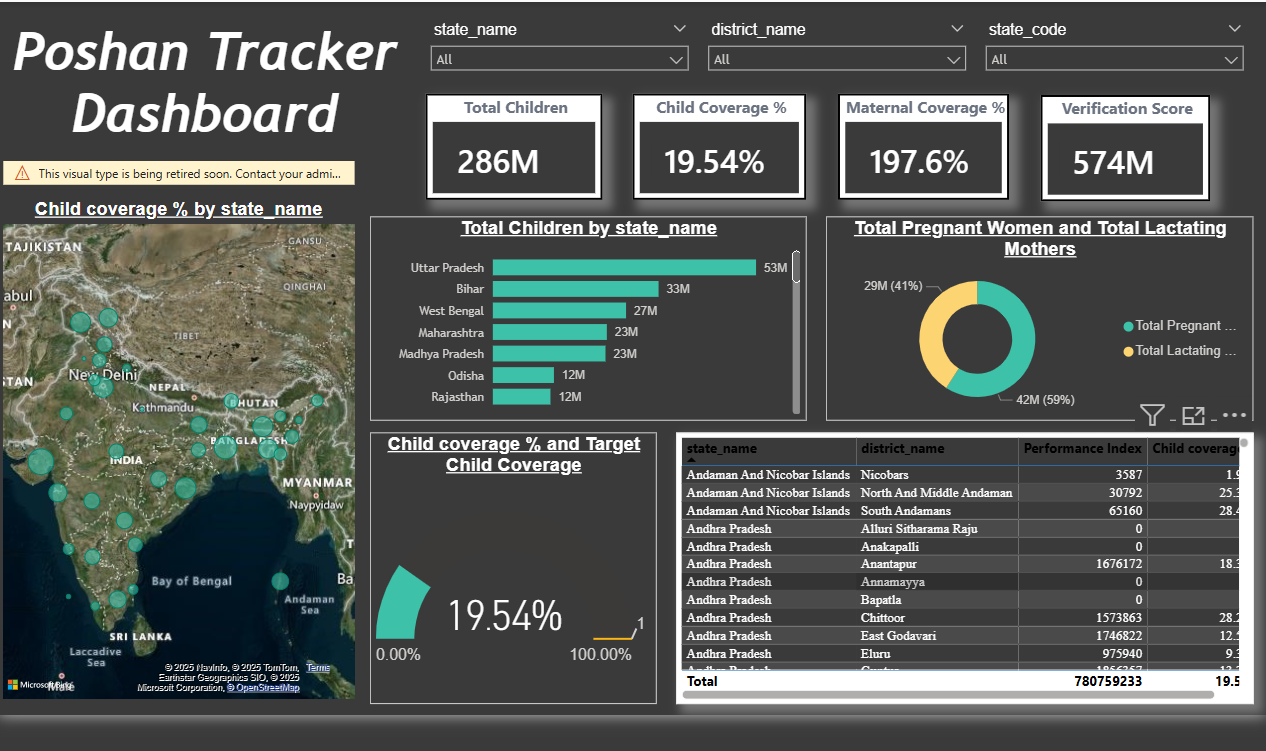

The page's visual inventory and layout, read from the dashboard file:
{"tool":"powerbi","page":{"name":"Final dashboard","canvas":[1280,720],"ordinal":5},"visuals":[{"type":"slicer","fields":{"Values":["mapped_poshan_tracker_updated.state_name"]},"box":[417.9,7.6,280.1,86.3],"z":0},{"type":"slicer","fields":{"Values":["mapped_poshan_tracker_updated.district_name"]},"box":[707.1,13.6,280.1,86.3],"z":1000},{"type":"slicer","fields":{"Values":["mapped_poshan_tracker_updated.state_code"]},"box":[987.3,13.6,280.1,86.3],"z":2000},{"type":"textbox","box":[0,13.6,417.9,157.5],"z":3000},{"type":"cardVisual","title":"Total Children","fields":{"Data":["Measure table.Total Children"]},"box":[431.5,92.4,178.7,107.5],"z":4000},{"type":"cardVisual","title":"Child Coverage %","fields":{"Data":["Measure table.Coverage 21 days %"]},"box":[640.5,92.4,175.6,107.5],"z":5000},{"type":"cardVisual","title":"Total Verified Score","fields":{"Data":["Measure table.Verification Score"]},"box":[1052.4,93.9,171.1,107.5],"z":6000},{"type":"barChart","fields":{"Category":["mapped_poshan_tracker_updated.state_name"],"Y":["Measure table.Total Children"]},"box":[375.5,216.5,440.6,205.9],"z":7000},{"type":"donutChart","fields":{"Y":["Measure table.Total Pregnant Women","Measure table.Total Lactating Mothers"]},"box":[835.8,216.5,431.5,205.9],"z":8000},{"type":"gauge","fields":{"Y":["Measure table.Child coverage %"],"TargetValue":["Measure table.Target Child Coverage"]},"box":[375.5,434.6,289.2,274.1],"z":9000},{"type":"tableEx","fields":{"Values":["mapped_poshan_tracker_updated.state_name","mapped_poshan_tracker_updated.district_name","Measure table.Performance Index","Measure table.Coverage 21 days %"]},"box":[684.4,434.6,583,274.1],"z":10000},{"type":"map","fields":{"Category":["mapped_poshan_tracker_updated.state_name"],"Size":["Measure table.Child coverage %"]},"box":[0,160.5,364.9,548.1],"z":11000},{"type":"cardVisual","title":"Total Service Score","fields":{"Data":["Measure table.Service Score"]},"box":[848,92.4,181.7,107.5],"z":12000}]}

Visuals, with their boxes on the page's 1280x720 design canvas (x1, y1, x2, y2). These are canvas units, not pixel positions in the 1266x751 screenshot, which may show the page scaled, cropped or inside an application window:
slicer - mapped_poshan_tracker_updated.state_name: {"left": 418, "top": 8, "right": 698, "bottom": 94}
slicer - mapped_poshan_tracker_updated.district_name: {"left": 707, "top": 14, "right": 987, "bottom": 100}
slicer - mapped_poshan_tracker_updated.state_code: {"left": 987, "top": 14, "right": 1267, "bottom": 100}
textbox: {"left": 0, "top": 14, "right": 418, "bottom": 171}
"Total Children" cardVisual: {"left": 432, "top": 92, "right": 610, "bottom": 200}
"Child Coverage %" cardVisual: {"left": 640, "top": 92, "right": 816, "bottom": 200}
"Total Verified Score" cardVisual: {"left": 1052, "top": 94, "right": 1224, "bottom": 201}
barChart - mapped_poshan_tracker_updated.state_name x Measure table.Total Children: {"left": 376, "top": 216, "right": 816, "bottom": 422}
donutChart - Measure table.Total Pregnant Women x Measure table.Total Lactating Mothers: {"left": 836, "top": 216, "right": 1267, "bottom": 422}
gauge - Measure table.Child coverage % x Measure table.Target Child Coverage: {"left": 376, "top": 435, "right": 665, "bottom": 709}
tableEx - mapped_poshan_tracker_updated.state_name x mapped_poshan_tracker_updated.district_name: {"left": 684, "top": 435, "right": 1267, "bottom": 709}
map - mapped_poshan_tracker_updated.state_name x Measure table.Child coverage %: {"left": 0, "top": 160, "right": 365, "bottom": 709}
"Total Service Score" cardVisual: {"left": 848, "top": 92, "right": 1030, "bottom": 200}
